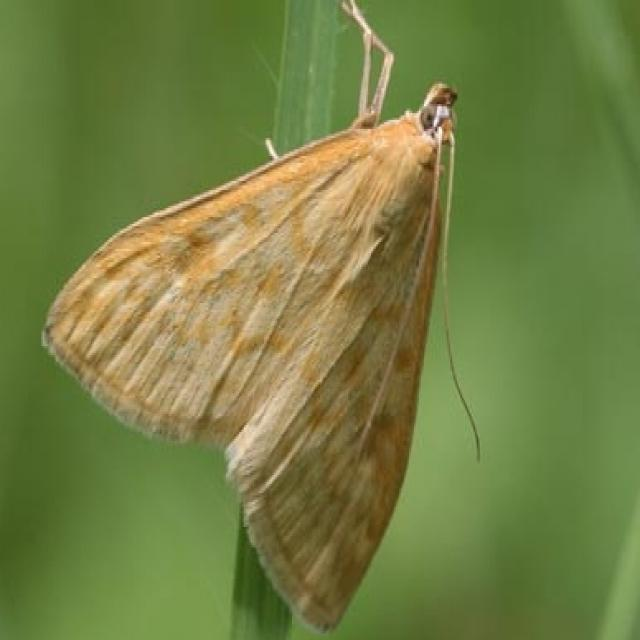cornborer-Adult-: (34, 74, 505, 618)
